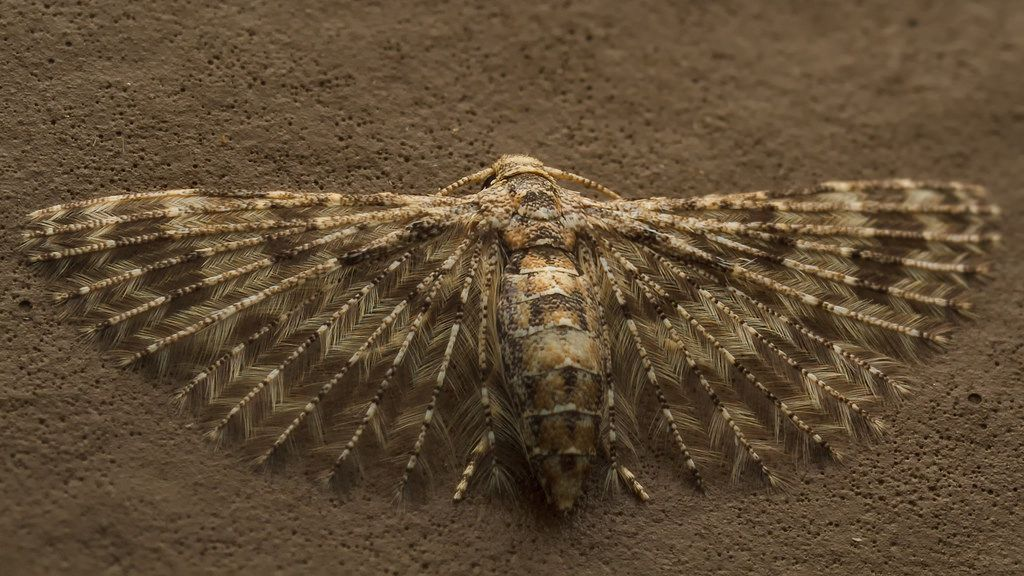Alucitidae: (29, 151, 1012, 543)
moth: (27, 149, 1010, 541)
